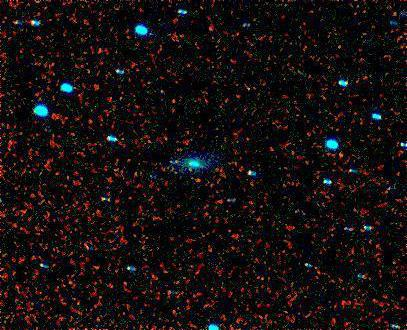star: (183, 166, 213, 196)
